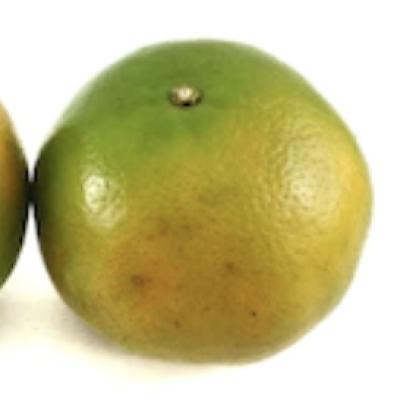fresh: (28, 40, 374, 369)
